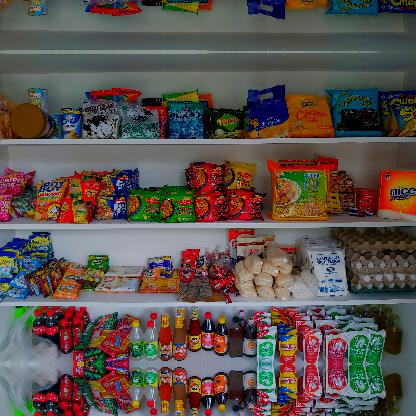Lady-s-Choice: (10, 103, 56, 139)
